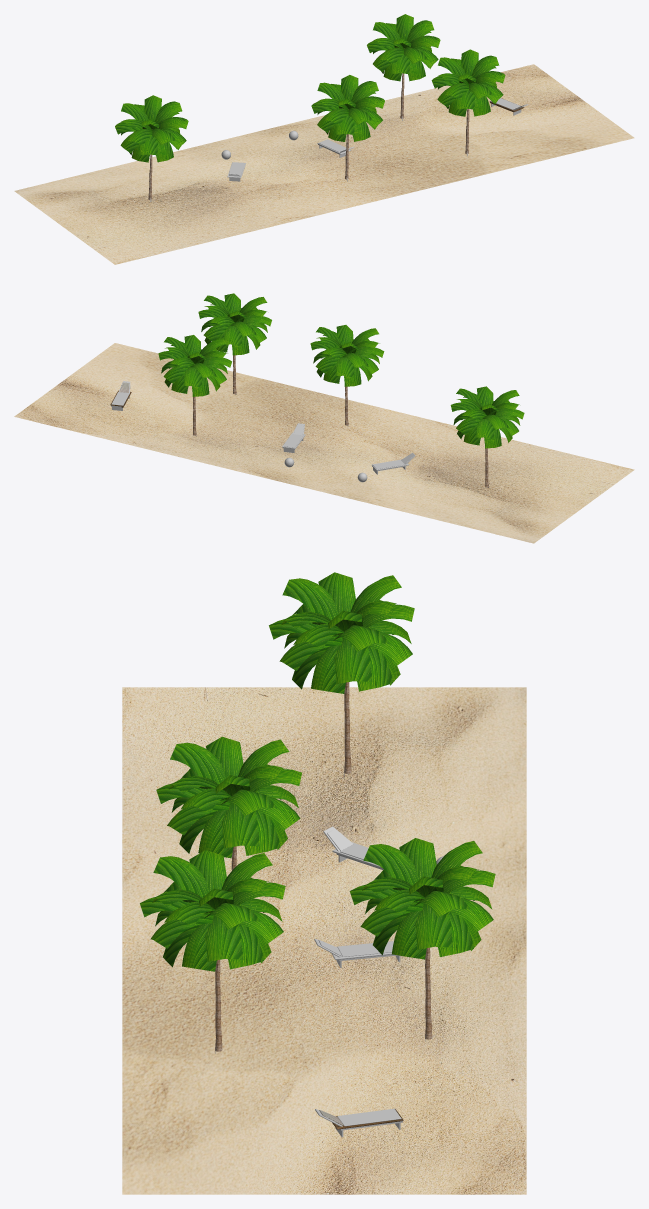
The model's file is cenario_1.obj.
3 renders of one model, top to bottom at view 1: azimuth 30°, elevation 25°; view 2: azimuth 150°, elevation 25°; view 3: azimuth 270°, elevation 25°, orthographic. The views are drawn at different scales.
Parts seen in each view (by area): view 1: Berma_1, palm_folhas.003, palm_folhas.001, palm_folhas, palm_folhas.002; view 2: Berma_1, palm_folhas, palm_folhas.001, palm_folhas.002, palm_folhas.003; view 3: Berma_1, palm_folhas.002, palm_folhas.003, palm_folhas.001, palm_folhas.
Boxes of the visible parts, bbox=[...] form: Berma_1: bbox=[14, 64, 634, 264]; palm_folhas.003: bbox=[431, 49, 505, 156]; palm_folhas.001: bbox=[367, 14, 440, 120]; palm_folhas: bbox=[311, 75, 384, 181]; palm_folhas.002: bbox=[115, 95, 188, 201]; Berma_1: bbox=[14, 343, 634, 543]; palm_folhas: bbox=[310, 325, 384, 425]; palm_folhas.001: bbox=[158, 335, 231, 436]; palm_folhas.002: bbox=[450, 386, 524, 487]; palm_folhas.003: bbox=[198, 293, 271, 394]; Berma_1: bbox=[122, 687, 526, 1194]; palm_folhas.002: bbox=[269, 572, 414, 775]; palm_folhas.003: bbox=[140, 850, 285, 1053]; palm_folhas.001: bbox=[349, 838, 495, 1041]; palm_folhas: bbox=[156, 736, 301, 858].
Bounding box in the file's own units: 60 × 10.9 × 20.19.
